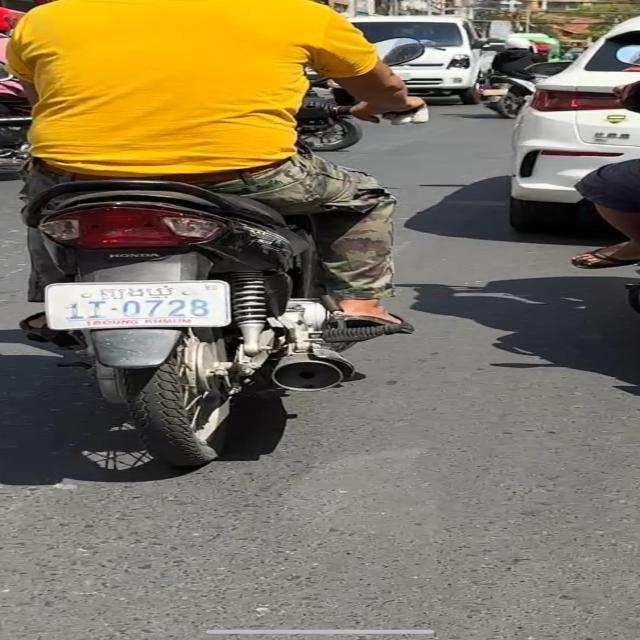Tboung_Khmum: (92, 284, 176, 300)
